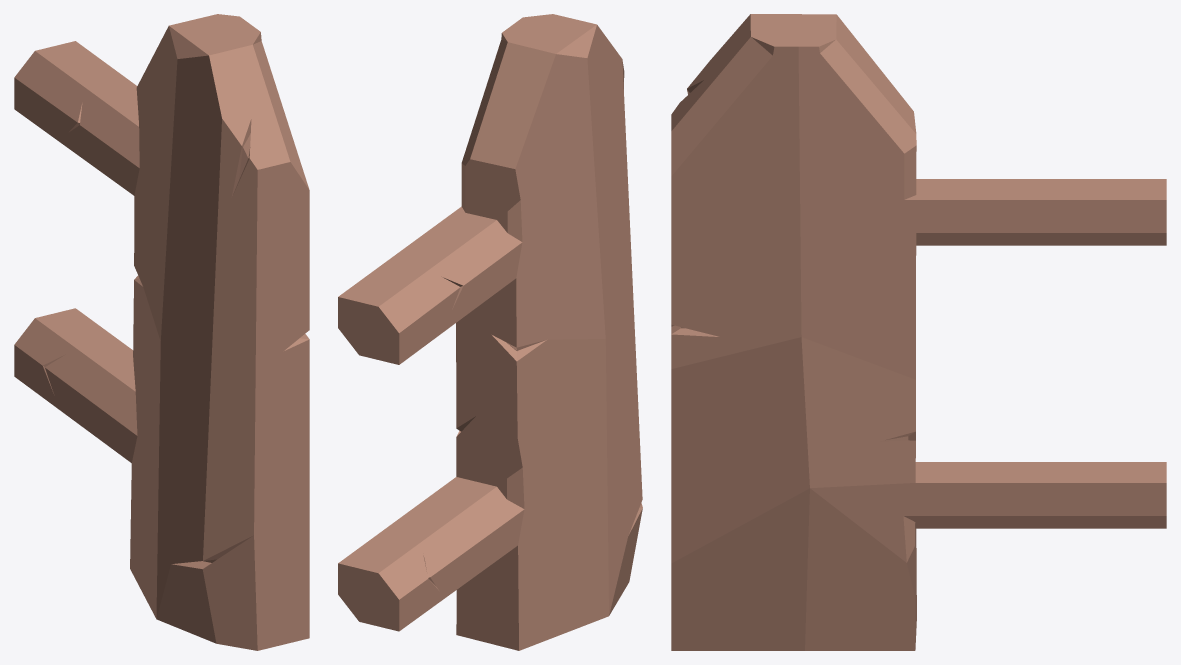
The model's file is Fence 1.fbx.
The picture shows the model from 3 angles, left to right: view 1: azimuth 30°, elevation 25°; view 2: azimuth 150°, elevation 25°; view 3: azimuth 270°, elevation 25°; orthographic projection. The views are drawn at different scales.
Visible parts, largest first — view 1: Fence 1; view 2: Fence 1; view 3: Fence 1.
Boxes of the visible parts, <box> form: Fence 1: <box>14,14,309,650</box>; Fence 1: <box>338,14,642,650</box>; Fence 1: <box>671,14,1166,650</box>.
Bounding box in the file's own units: 60.51 × 270 × 200.
